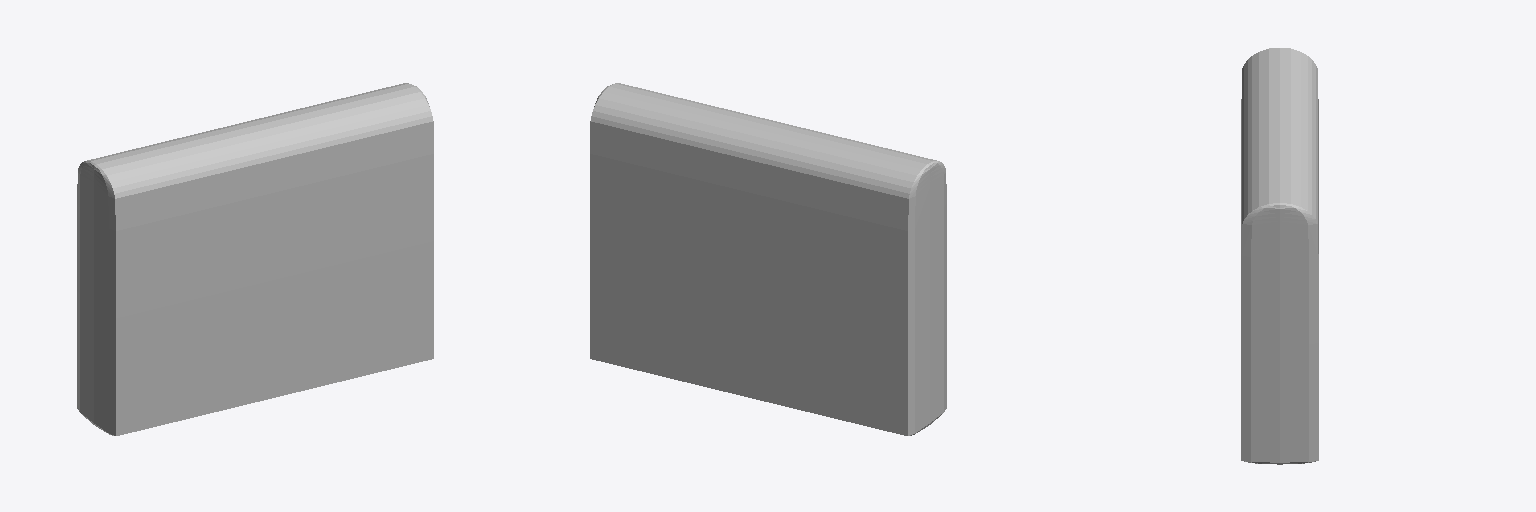
File: book.obj
3 renders of one model, left to right at view 1: azimuth 30°, elevation 25°; view 2: azimuth 150°, elevation 25°; view 3: azimuth 270°, elevation 25°, orthographic.
Visible parts, largest first — view 1: Cube; view 2: Cube; view 3: Cube.
Boxes of the visible parts, x1,y1,x2,y2 form: Cube: [77, 83, 433, 435]; Cube: [590, 83, 946, 435]; Cube: [1241, 48, 1318, 464].
Size of the model in its own units: 2 by 1.54 by 0.4148.